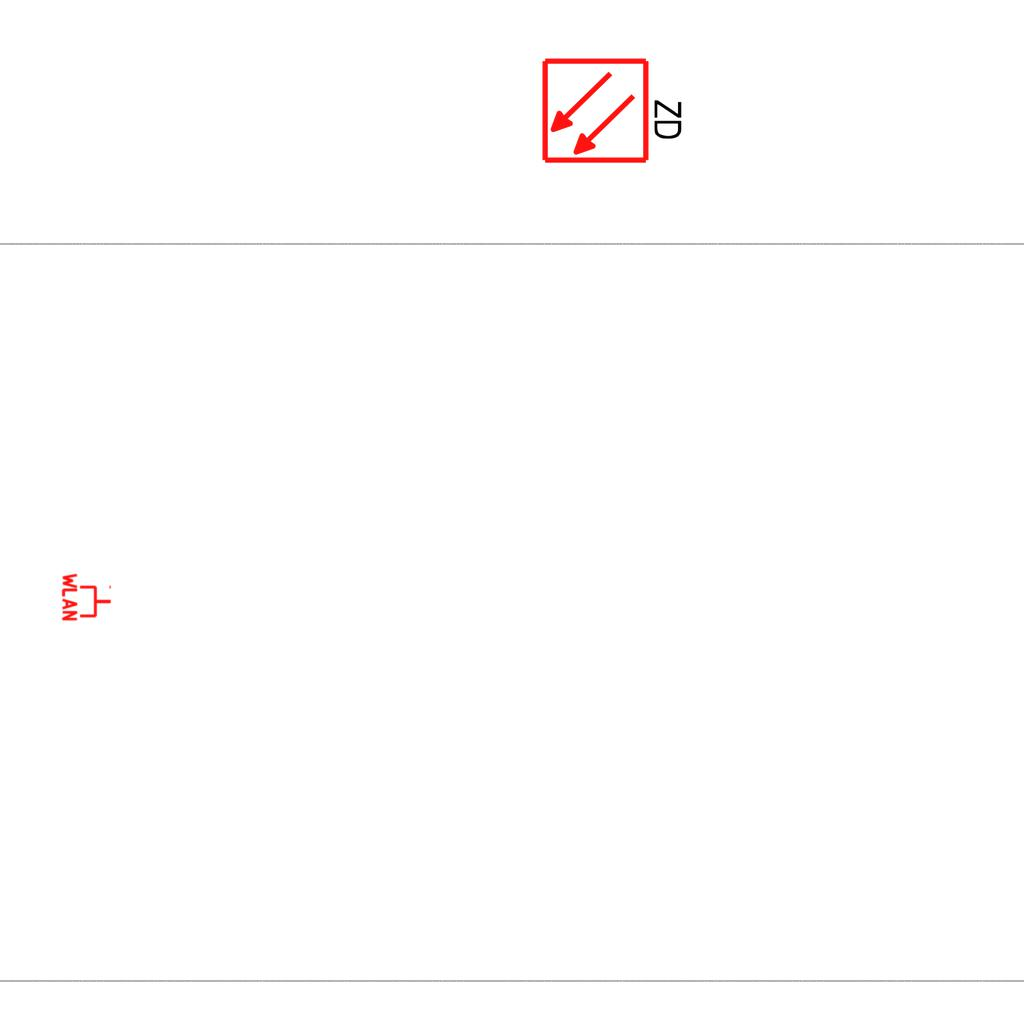WLAN: (61, 571, 113, 623)
ZD_Melder_in_Zwischendecke_mit_Revisionsoeffnung_mind_40_x_40_cm: (540, 52, 689, 166)
